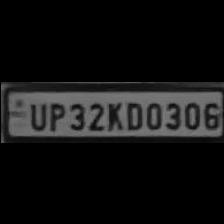0: (181, 98, 201, 128), (143, 98, 161, 128)
2: (84, 98, 104, 130)
3: (64, 98, 84, 130), (162, 98, 180, 130)
6: (200, 98, 220, 128)
D: (122, 97, 142, 129)
K: (104, 98, 122, 130)
P: (46, 98, 64, 130)
U: (24, 98, 46, 128)
